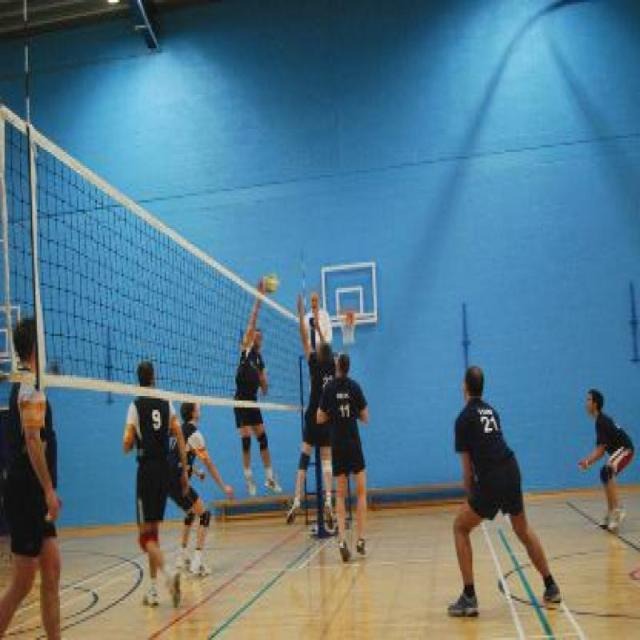volleyball: (264, 272, 278, 294)
